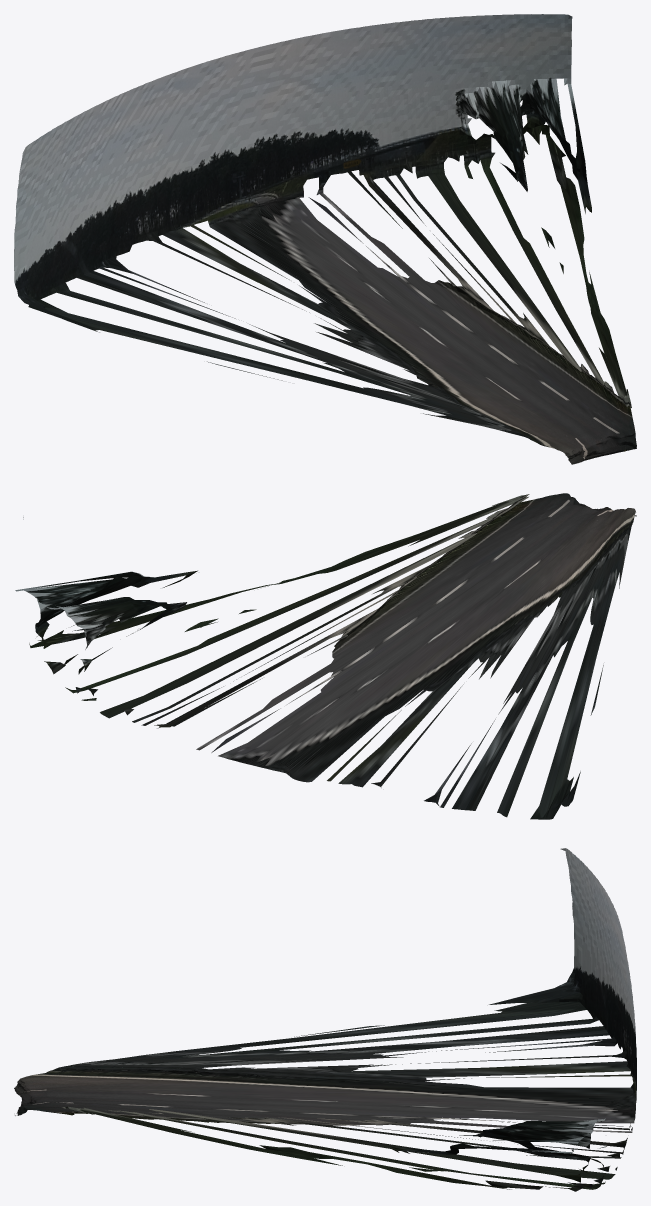
The picture shows the model from 3 angles, top to bottom: view 1: azimuth 30°, elevation 25°; view 2: azimuth 150°, elevation 25°; view 3: azimuth 270°, elevation 25°; orthographic projection. The views are drawn at different scales.
Parts seen in each view (by area): view 1: defaultobject; view 2: defaultobject; view 3: defaultobject.
Boxes of the visible parts, bbox=[...] form: defaultobject: bbox=[14, 14, 636, 464]; defaultobject: bbox=[15, 493, 636, 819]; defaultobject: bbox=[14, 848, 636, 1191].
Size of the model in its own units: 41.09 by 12.86 by 44.43.
Materials: 1 (1 with a texture image).
